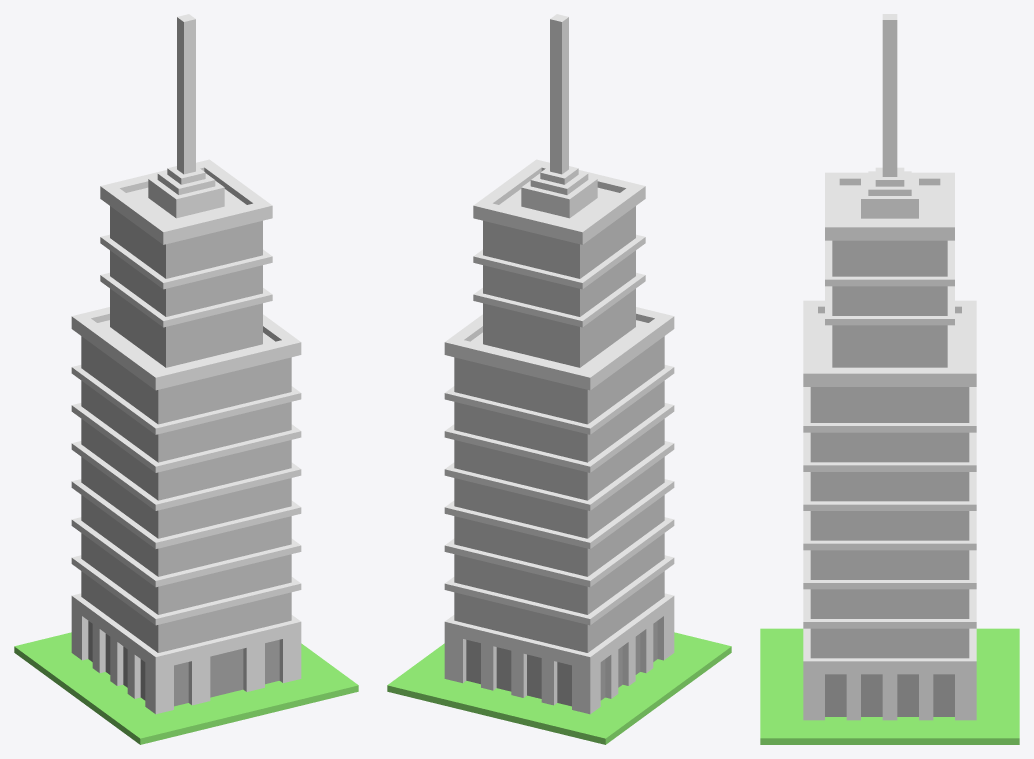
3 views of the same model, side by side, from view 1: azimuth 30°, elevation 25°; view 2: azimuth 150°, elevation 25°; view 3: azimuth 270°, elevation 25° (orthographic). The views are drawn at different scales.
Parts seen in each view (by area): view 1: ObjObject.009; view 2: ObjObject.009; view 3: ObjObject.009.
Boxes of the visible parts, x1=… form: ObjObject.009: x1=14, y1=14, x2=358, y2=744; ObjObject.009: x1=387, y1=14, x2=731, y2=744; ObjObject.009: x1=760, y1=14, x2=1019, y2=744.
Size of the model in its own units: 2 by 2 by 5.72.
